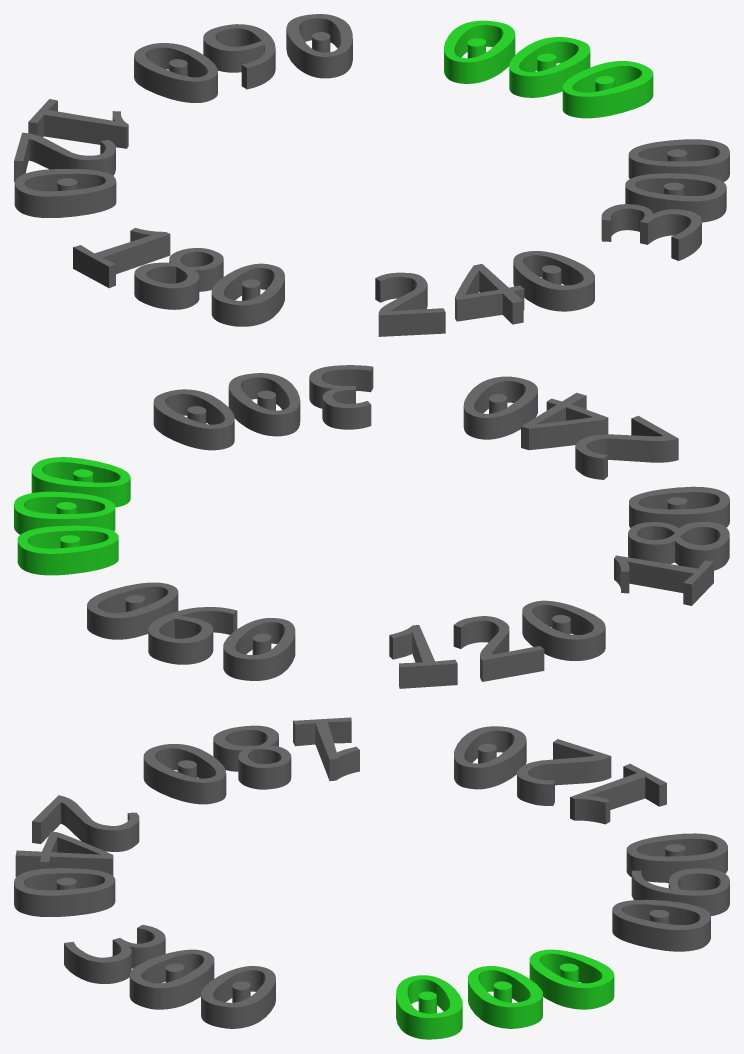
The model's file is FlatCompass.gltf.
3 views of the same model, one above another, from view 1: azimuth 30°, elevation 25°; view 2: azimuth 150°, elevation 25°; view 3: azimuth 270°, elevation 25° (orthographic).
Visible parts, largest first — view 1: NumMesh; view 2: NumMesh; view 3: NumMesh.
Boxes of the visible parts, x1,y1,x2,y2 form: NumMesh: (14,14,729,336); NumMesh: (14,365,729,688); NumMesh: (14,717,729,1039).
Size of the model in its own units: 4.48 by 0.15 by 4.51.
